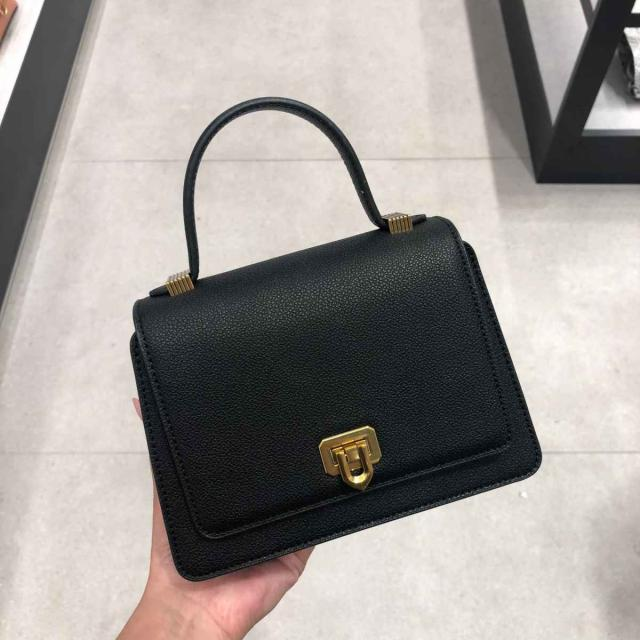handbag: (125, 93, 540, 585)
